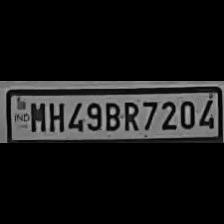0: (178, 98, 195, 128)
2: (156, 98, 176, 130)
4: (65, 100, 83, 132), (197, 96, 215, 128)
7: (139, 98, 157, 132)
9: (83, 99, 101, 131)
B: (102, 99, 120, 131)
H: (46, 100, 64, 132)
M: (27, 100, 45, 132)
R: (119, 98, 138, 132)
